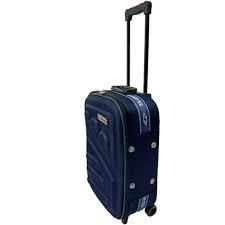suitcase: (80, 82, 162, 219)
